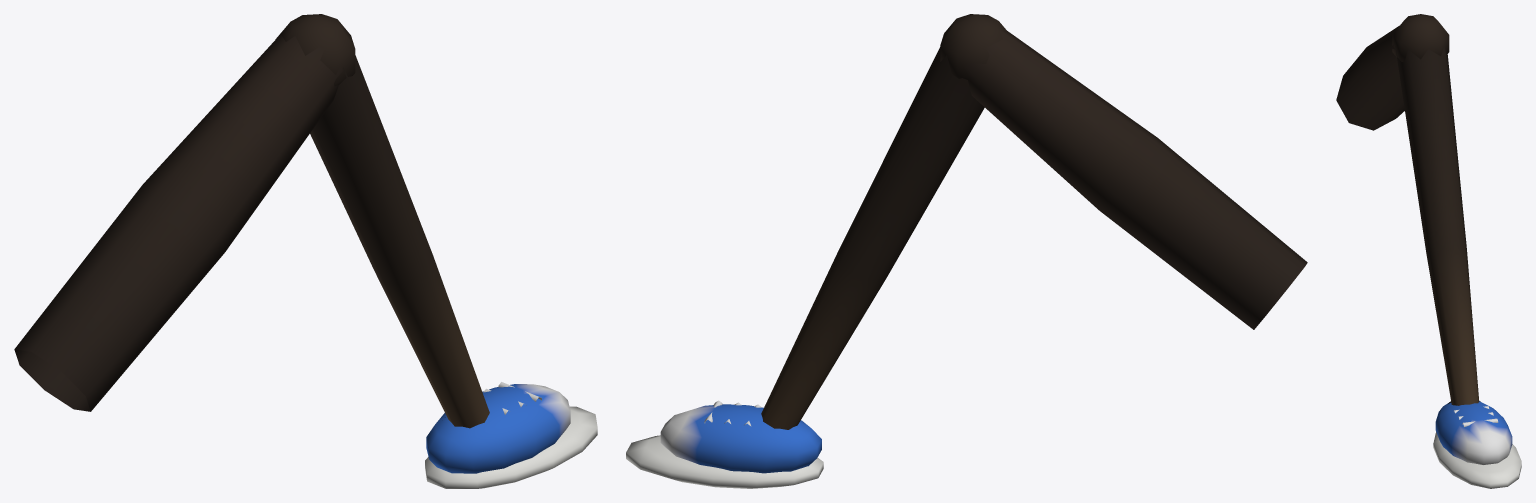
File: Spider_Leg2_Sneaker.fbx
The picture shows the model from 3 angles, left to right: view 1: azimuth 30°, elevation 25°; view 2: azimuth 150°, elevation 25°; view 3: azimuth 270°, elevation 25°; orthographic projection. The views are drawn at different scales.
Visible parts, largest first — view 1: Spider_Leg2_Sneaker; view 2: Spider_Leg2_Sneaker; view 3: Spider_Leg2_Sneaker.
Boxes of the visible parts, bbox=[...] form: Spider_Leg2_Sneaker: bbox=[14, 14, 597, 488]; Spider_Leg2_Sneaker: bbox=[626, 14, 1307, 488]; Spider_Leg2_Sneaker: bbox=[1336, 14, 1521, 488].
Bounding box in the file's own units: 0.3058 × 0.2406 × 0.1086.
